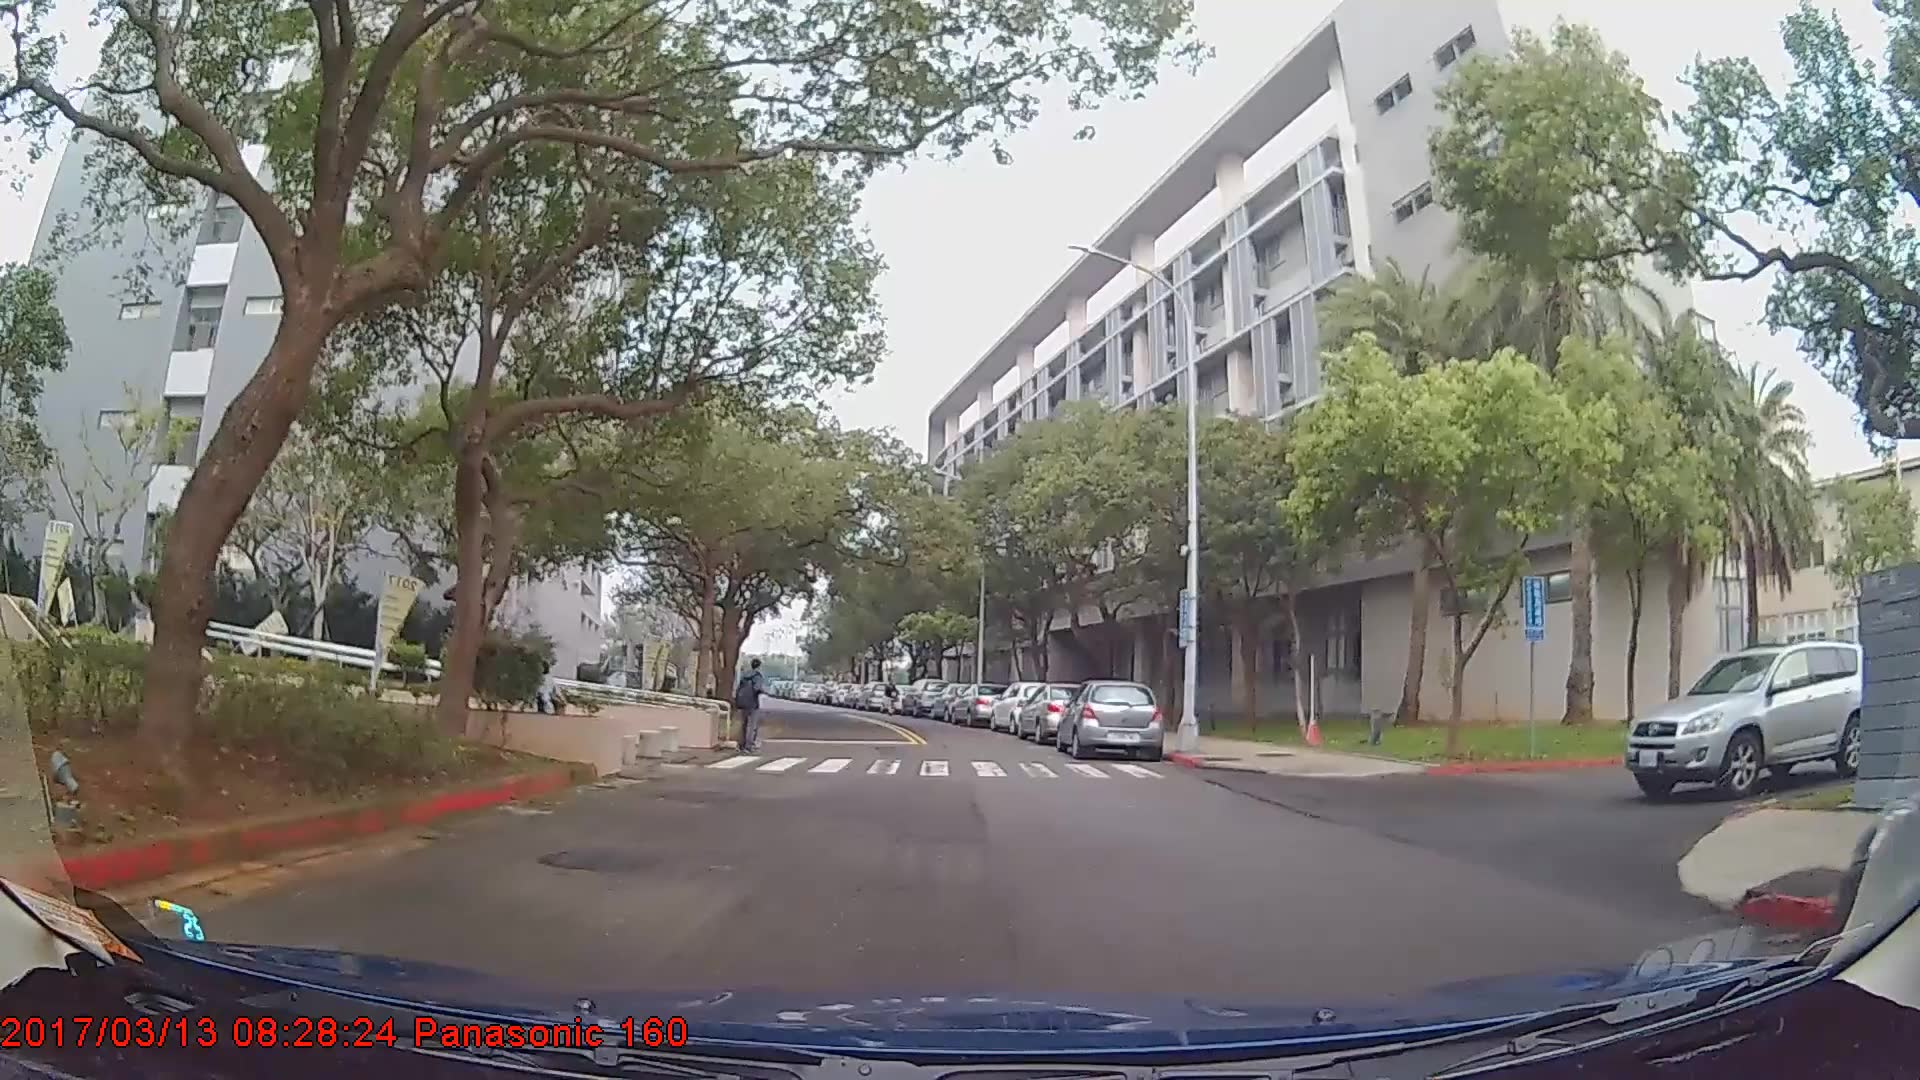pedestrian: (735, 659, 774, 760), (533, 663, 570, 752), (883, 675, 903, 718)
vehicle: (1621, 637, 1877, 800), (1055, 679, 1170, 762), (1014, 682, 1099, 746), (986, 682, 1061, 735), (948, 683, 1010, 730), (899, 679, 947, 718)
